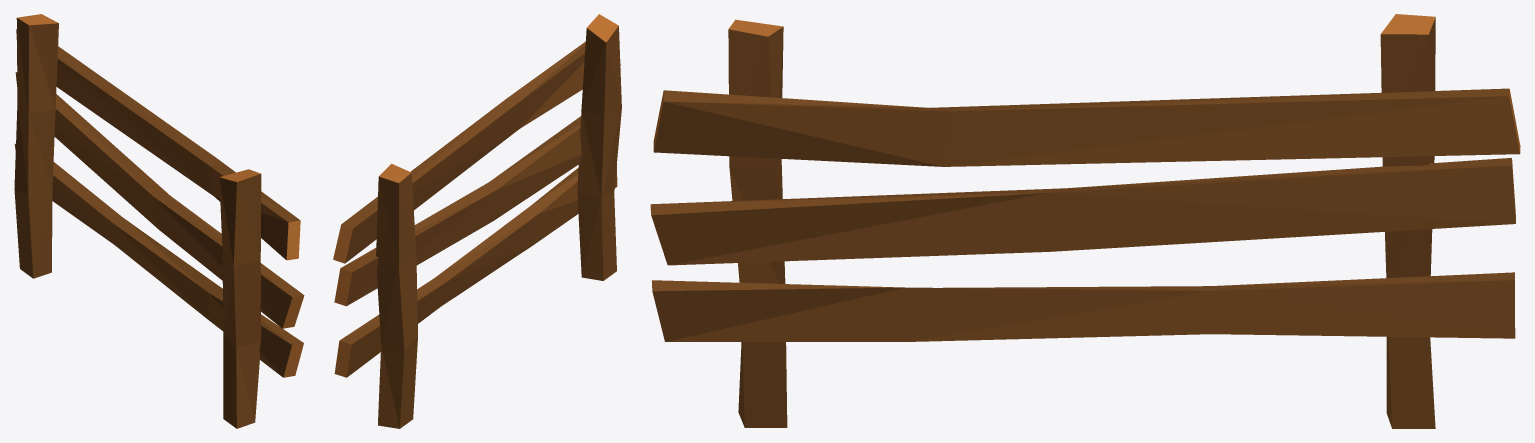
The model's file is fence.obj.
3 views of the same model, side by side, from view 1: azimuth 30°, elevation 25°; view 2: azimuth 150°, elevation 25°; view 3: azimuth 270°, elevation 25° (orthographic). The views are drawn at different scales.
Visible parts, largest first — view 1: fence_Cube; view 2: fence_Cube; view 3: fence_Cube.
Boxes of the visible parts, left/top/right/bottom form: fence_Cube: left=14, top=14, right=304, bottom=428; fence_Cube: left=333, top=14, right=621, bottom=428; fence_Cube: left=650, top=14, right=1520, bottom=428.
Bounding box in the file's own units: 0.4418 × 2.04 × 4.02.
Materials: 1 (1 with a texture image).
